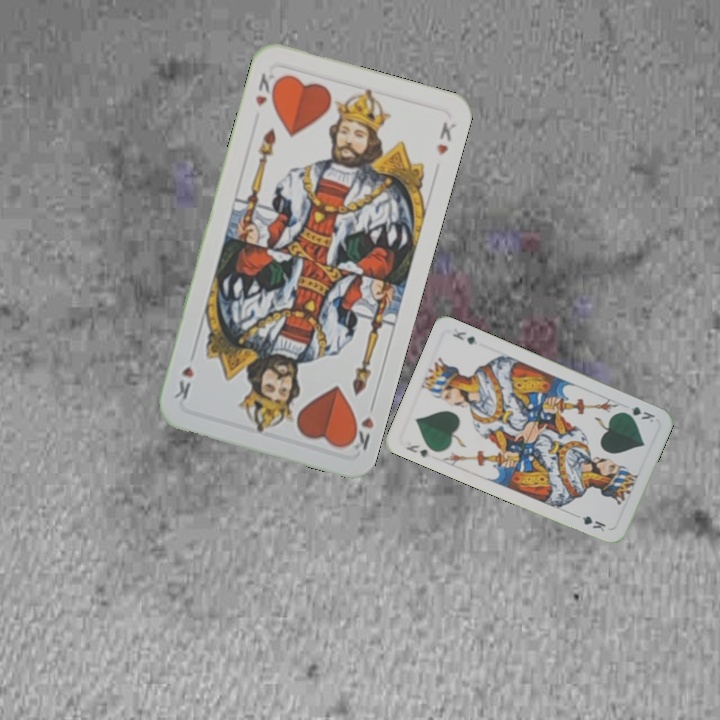GK: (618, 402, 658, 426), (402, 437, 430, 460)
HK: (343, 396, 378, 454), (251, 66, 282, 109)
